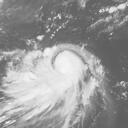cyclone: (23, 43, 105, 115)
